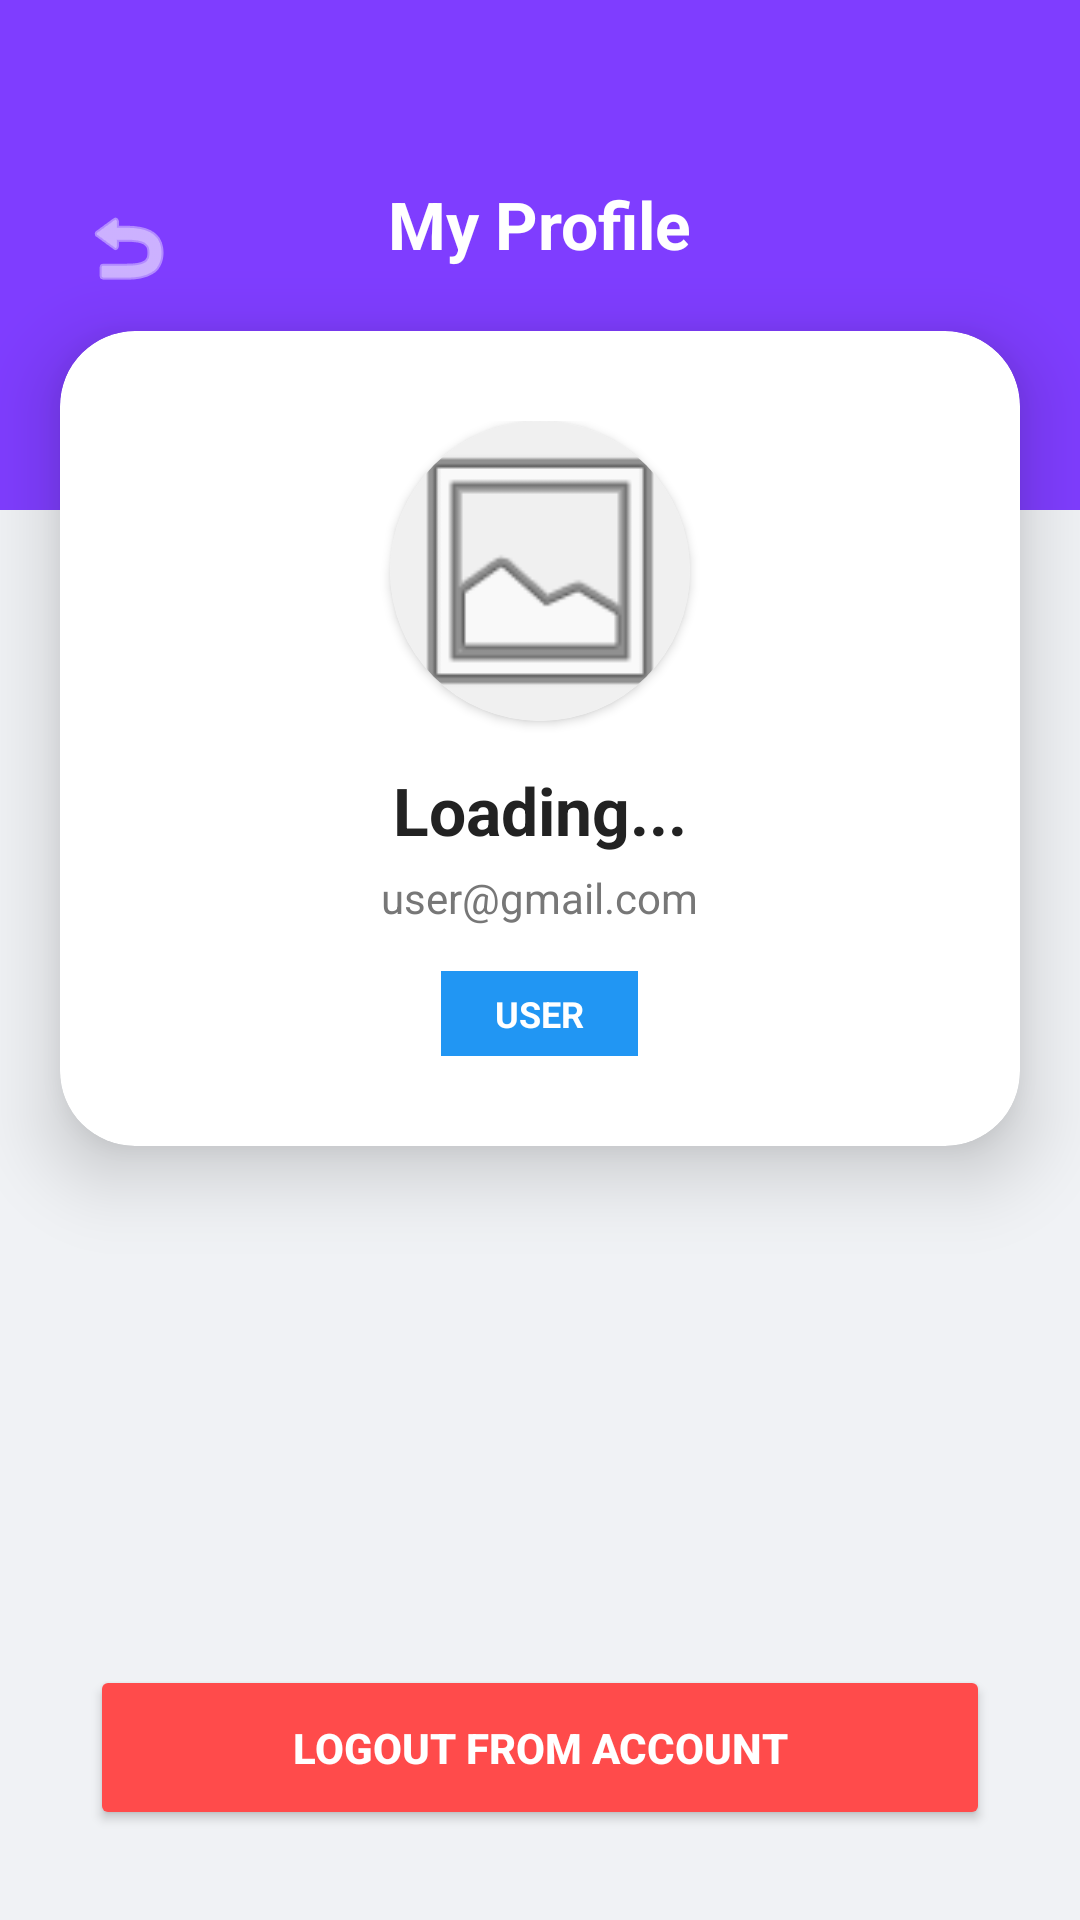

Screen size 1080x1920. Icon name, then its box in pixels as (x1, y1, x2, y2):
gallery: (396, 457, 684, 721)
revert: (95, 217, 164, 280)
